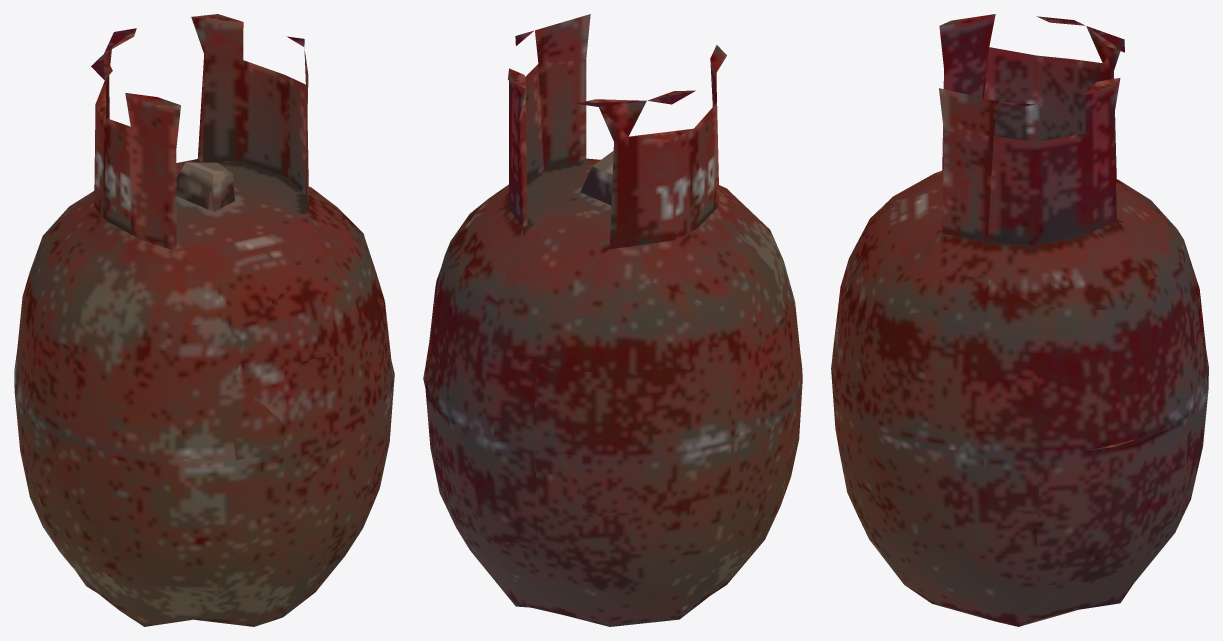
The model's file is small_lpg_tank.glb.
The picture shows the model from 3 angles, left to right: view 1: azimuth 30°, elevation 25°; view 2: azimuth 150°, elevation 25°; view 3: azimuth 270°, elevation 25°; orthographic projection.
Visible parts, largest first — view 1: mesh; view 2: mesh; view 3: mesh.
Part boxes in pixels (box(x1,y1,x2,y2)): mesh: box(14, 14, 394, 626); mesh: box(423, 14, 802, 626); mesh: box(831, 14, 1208, 626).
Size of the model in its own units: 0.4206 by 0.642 by 0.42.
1 material, 1 textured.
